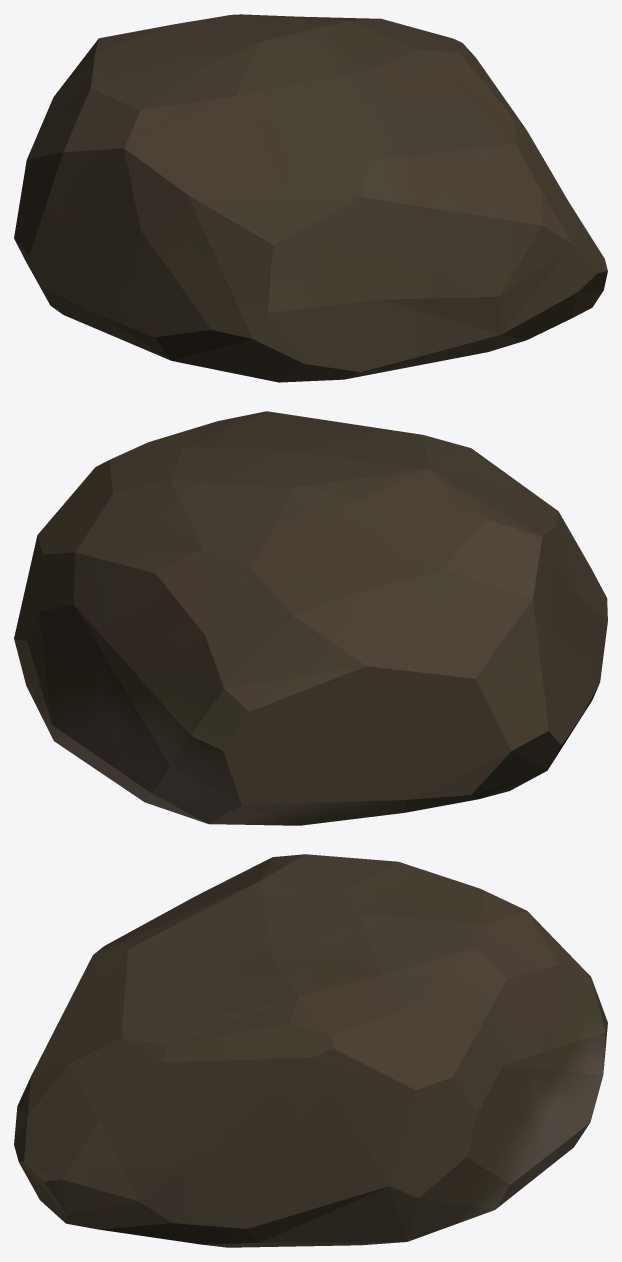
File: Rock2.fbx
3 views of the same model, one above another, from view 1: azimuth 30°, elevation 25°; view 2: azimuth 150°, elevation 25°; view 3: azimuth 270°, elevation 25° (orthographic). The views are drawn at different scales.
Parts seen in each view (by area): view 1: Eff_Model_Rock_02_03; view 2: Eff_Model_Rock_02_03; view 3: Eff_Model_Rock_02_03.
Boxes of the visible parts, x1,y1,x2,y2 form: Eff_Model_Rock_02_03: (14,14,607,382); Eff_Model_Rock_02_03: (14,411,607,825); Eff_Model_Rock_02_03: (14,854,607,1247).
Size of the model in its own units: 179 by 92.57 by 195.
